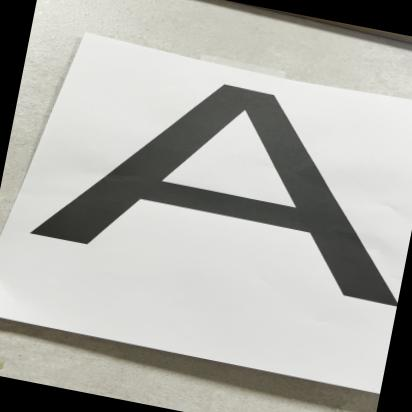seat: (23, 37, 412, 329)
